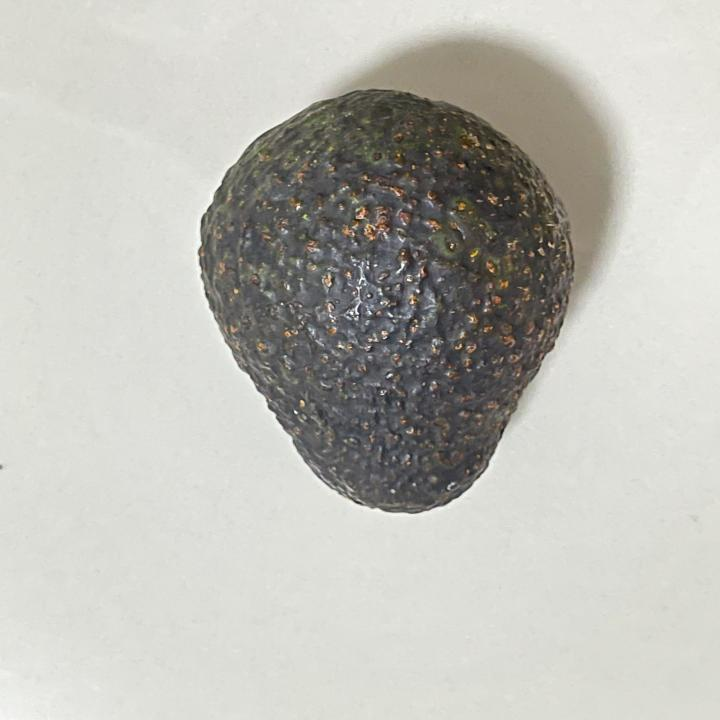Level1: (184, 73, 586, 527)
